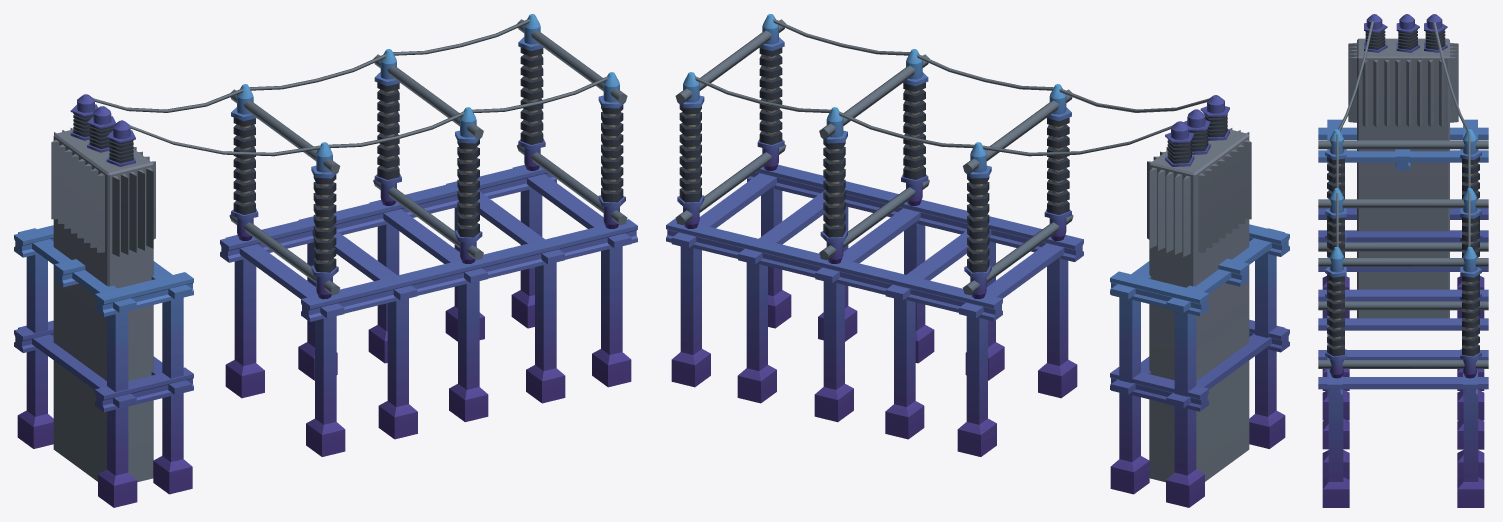
File: PowerStation_B.fbx
3 views of the same model, side by side, from view 1: azimuth 30°, elevation 25°; view 2: azimuth 150°, elevation 25°; view 3: azimuth 270°, elevation 25° (orthographic). The views are drawn at different scales.
Visible parts, largest first — view 1: PowerStation_B; view 2: PowerStation_B; view 3: PowerStation_B.
Boxes of the visible parts, x1,y1,x2,y2 form: PowerStation_B: (14,14,637,507); PowerStation_B: (666,14,1289,507); PowerStation_B: (1318,14,1488,507).
Size of the model in its own units: 659 by 418 by 217.
